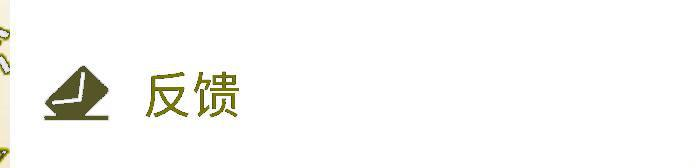CheckedTextView: (1, 1, 695, 167)
